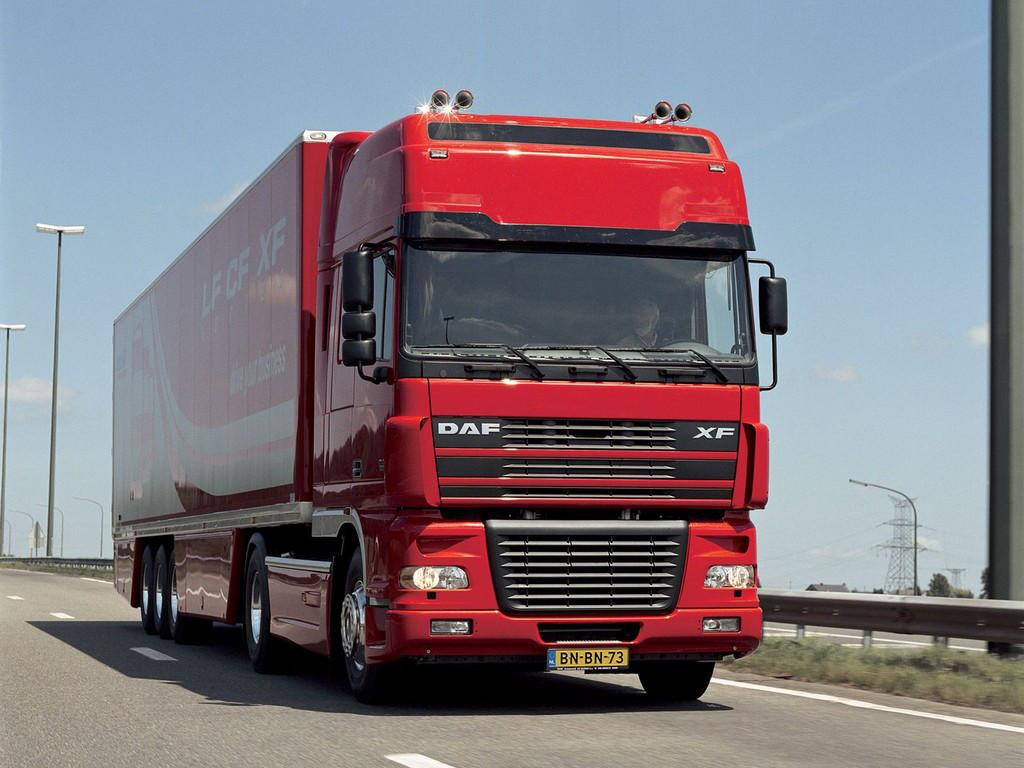卡车: (95, 82, 775, 711)
